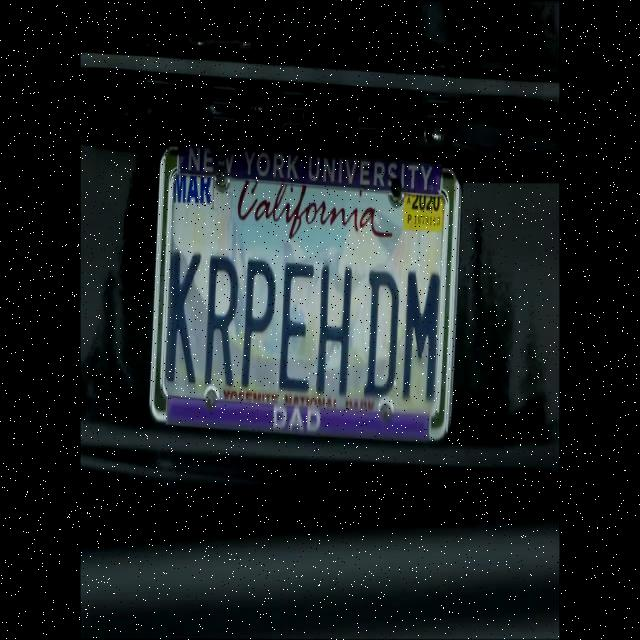licenseplate: (159, 140, 444, 432)
